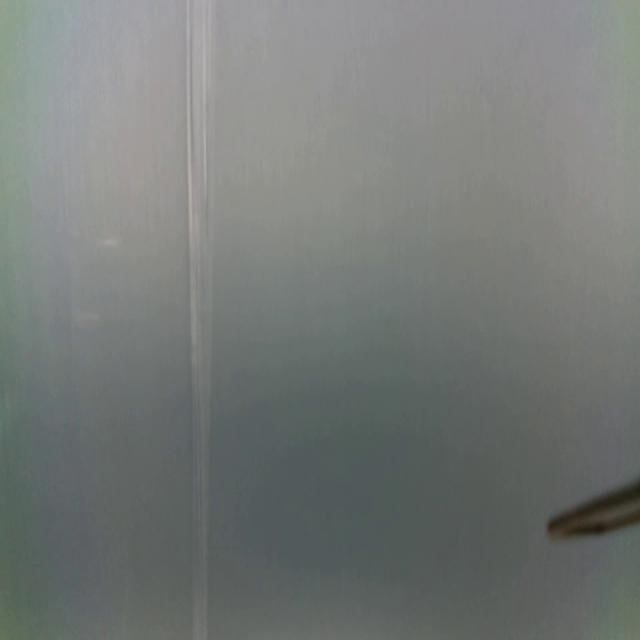crease: (185, 0, 214, 640)
